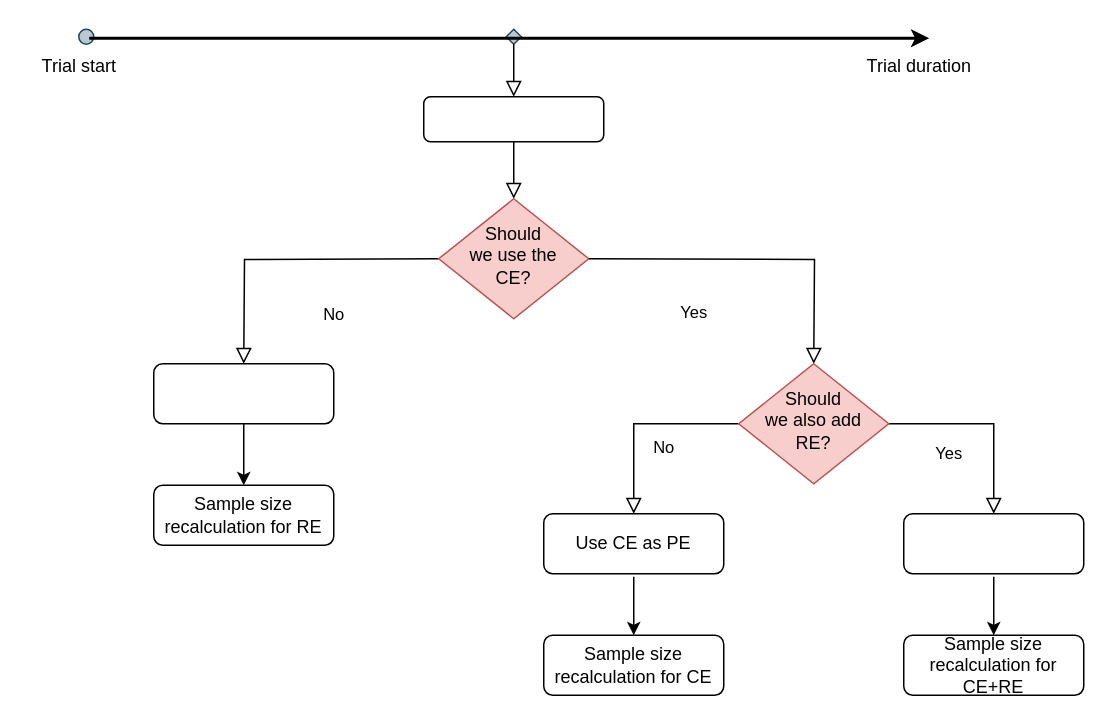
This 1110x723 diagram has some shape labels left out. The centre of each missing label's shape, as x and y in pixels:
Interim Analysis: pixel 513 118
Use CE and RE as PE: pixel 993 543
Use RE as PE: pixel 243 393
